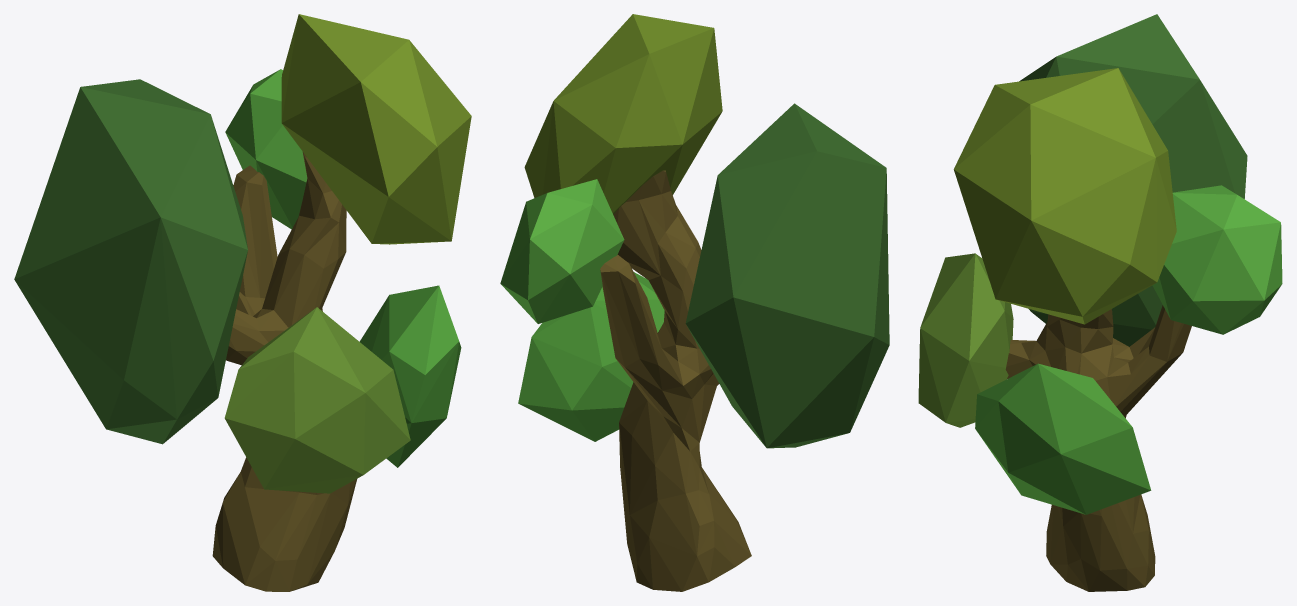
The model's file is tree_00.fbx.
The picture shows the model from 3 angles, left to right: view 1: azimuth 30°, elevation 25°; view 2: azimuth 150°, elevation 25°; view 3: azimuth 270°, elevation 25°; orthographic projection. The views are drawn at different scales.
Visible parts, largest first — view 1: tree_04PM3D_Sphere3D2_1, tree_04PM3D_Sphere3D1, tree_04PM3D_Cylinder3D, tree_04PM3D_Sphere3D4, tree_04PM3D_Sphere3D3, tree_04PM3D_Sphere3D2; view 2: tree_04PM3D_Sphere3D2_1, tree_04PM3D_Cylinder3D, tree_04PM3D_Sphere3D1, tree_04PM3D_Sphere3D2, tree_04PM3D_Sphere3D3; view 3: tree_04PM3D_Sphere3D1, tree_04PM3D_Sphere3D3, tree_04PM3D_Cylinder3D, tree_04PM3D_Sphere3D2_1, tree_04PM3D_Sphere3D2, tree_04PM3D_Sphere3D4.
Part boxes in pixels (<box>): tree_04PM3D_Sphere3D2_1: <box>14,79,247,444</box>; tree_04PM3D_Sphere3D1: <box>281,14,471,244</box>; tree_04PM3D_Cylinder3D: <box>212,152,356,591</box>; tree_04PM3D_Sphere3D4: <box>224,307,410,493</box>; tree_04PM3D_Sphere3D3: <box>359,285,461,467</box>; tree_04PM3D_Sphere3D2: <box>225,69,307,229</box>; tree_04PM3D_Sphere3D2_1: <box>685,103,889,448</box>; tree_04PM3D_Cylinder3D: <box>600,170,751,591</box>; tree_04PM3D_Sphere3D1: <box>524,14,722,214</box>; tree_04PM3D_Sphere3D2: <box>500,179,624,323</box>; tree_04PM3D_Sphere3D3: <box>518,272,664,441</box>; tree_04PM3D_Sphere3D1: <box>953,68,1176,324</box>; tree_04PM3D_Sphere3D3: <box>975,363,1151,514</box>; tree_04PM3D_Cylinder3D: <box>1005,305,1191,591</box>; tree_04PM3D_Sphere3D2_1: <box>1019,14,1247,346</box>; tree_04PM3D_Sphere3D2: <box>1152,185,1282,334</box>; tree_04PM3D_Sphere3D4: <box>918,253,1013,427</box>.
Size of the model in its own units: 845 by 1127 by 715.
